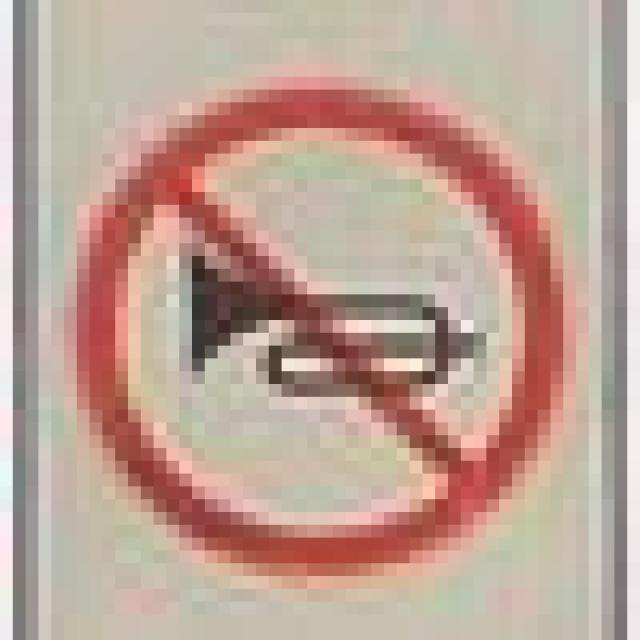HORN_PROHIBITED: (64, 64, 563, 563)
